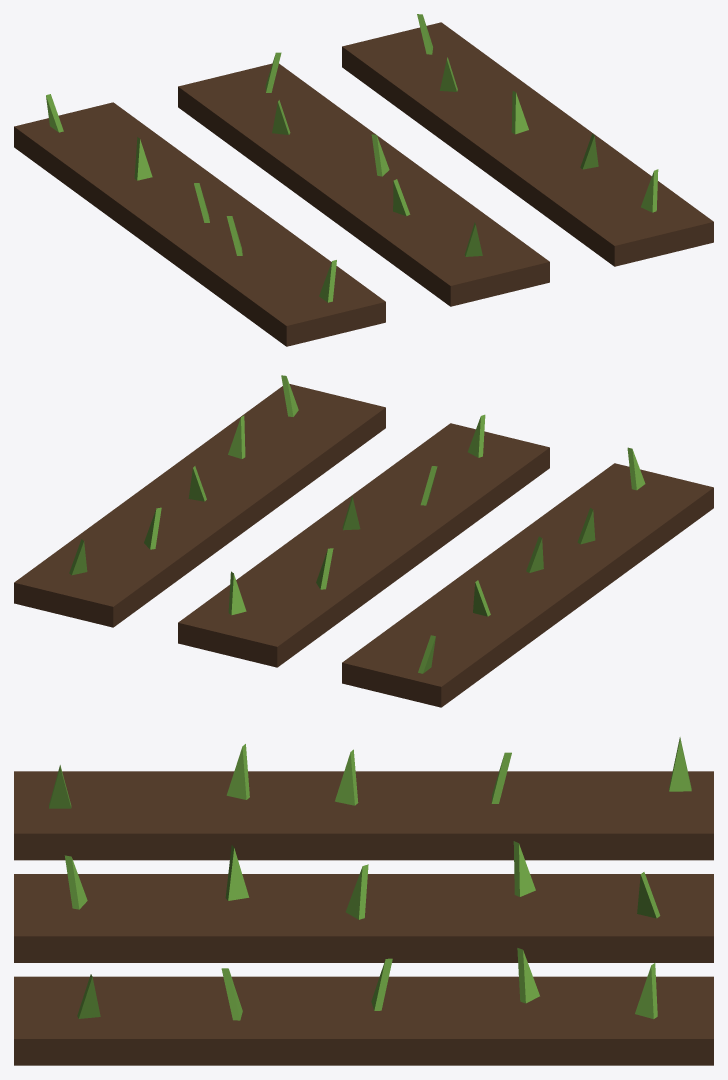
Rendered from crop_flax_1.glb.
3 renders of one model, top to bottom at view 1: azimuth 30°, elevation 25°; view 2: azimuth 150°, elevation 25°; view 3: azimuth 270°, elevation 25°, orthographic. The views are drawn at different scales.
Parts seen in each view (by area): view 1: crop_flax_1; view 2: crop_flax_1; view 3: crop_flax_1.
Part boxes in pixels (x1,y1,x2,y2): crop_flax_1: (14, 14, 713, 346); crop_flax_1: (14, 375, 713, 707); crop_flax_1: (14, 737, 713, 1065).
Bounding box in the file's own units: 1.72 × 0.22 × 1.9.
